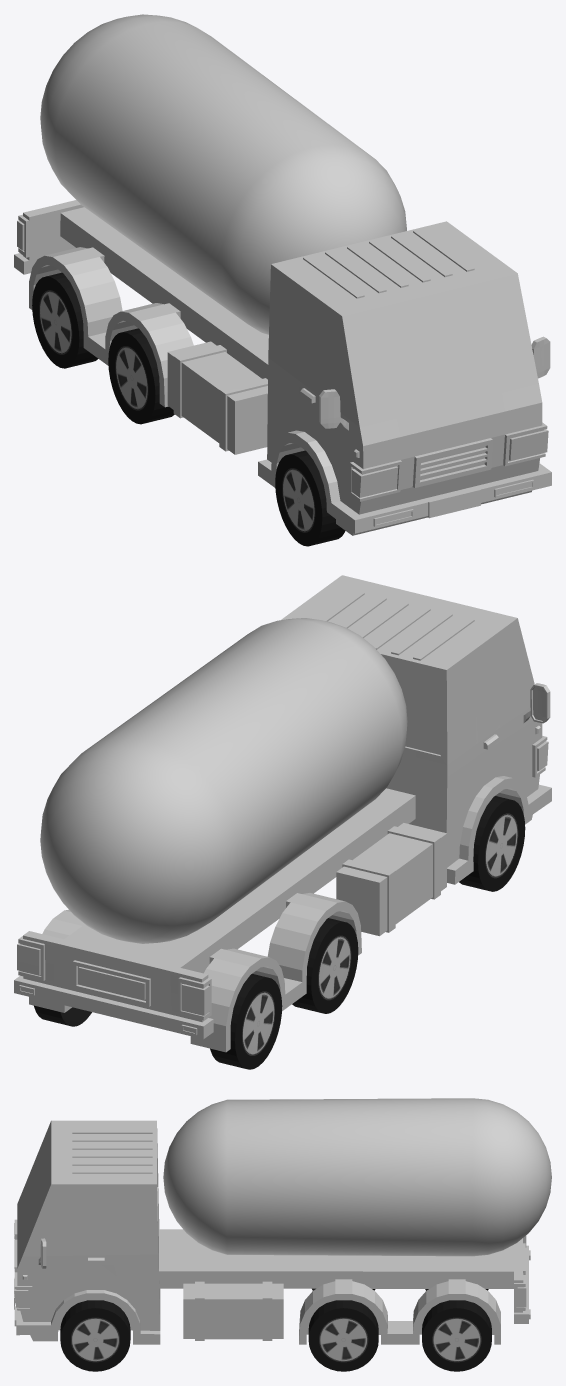
File: TankerTruck.fbx
The picture shows the model from 3 angles, top to bottom: view 1: azimuth 30°, elevation 25°; view 2: azimuth 150°, elevation 25°; view 3: azimuth 270°, elevation 25°; orthographic projection. The views are drawn at different scales.
Parts seen in each view (by area): view 1: TankerTruck.Mesh, FrontWheel.Mesh.R, RearWheel.Mesh.R, PassiveWheel.Mesh.R; view 2: TankerTruck.Mesh, PassiveWheel.Mesh.R, RearWheel.Mesh.R, FrontWheel.Mesh.R, PassiveWheel.Mesh.L; view 3: TankerTruck.Mesh, RearWheel.Mesh.L, FrontWheel.Mesh.L, PassiveWheel.Mesh.L.
Part boxes in pixels (box(x1,y1,x2,y2)): TankerTruck.Mesh: box(14, 14, 551, 535); FrontWheel.Mesh.R: box(275, 450, 345, 546); RearWheel.Mesh.R: box(108, 328, 174, 424); PassiveWheel.Mesh.R: box(32, 272, 98, 368); TankerTruck.Mesh: box(14, 575, 551, 1052); PassiveWheel.Mesh.R: box(210, 973, 282, 1069); RearWheel.Mesh.R: box(292, 918, 358, 1013); FrontWheel.Mesh.R: box(459, 796, 525, 891); PassiveWheel.Mesh.L: box(34, 1005, 91, 1026); TankerTruck.Mesh: box(14, 1098, 551, 1344); RearWheel.Mesh.L: box(308, 1300, 378, 1371); FrontWheel.Mesh.L: box(60, 1300, 130, 1371); PassiveWheel.Mesh.L: box(422, 1300, 491, 1371).
Size of the model in its own units: 1.03 by 1.32 by 2.8.
